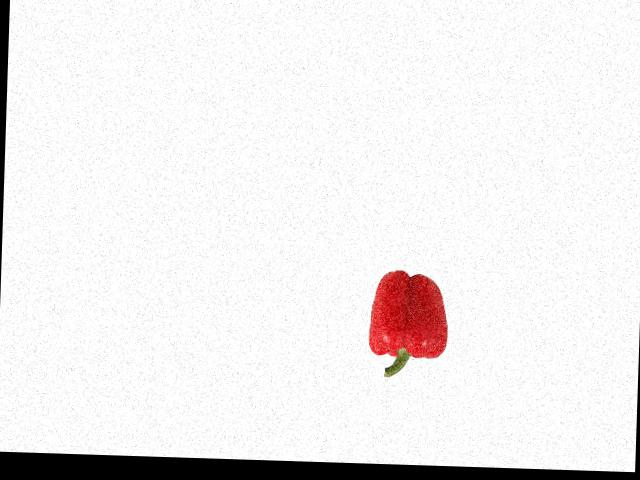bell_pepper: (364, 268, 461, 378)
